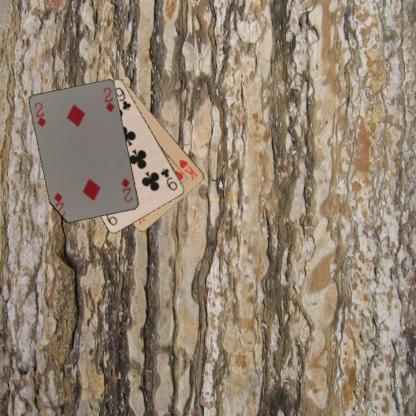2d: (118, 176, 134, 204), (32, 100, 47, 128)
9c: (158, 166, 179, 192)
Kh: (177, 156, 199, 182)
